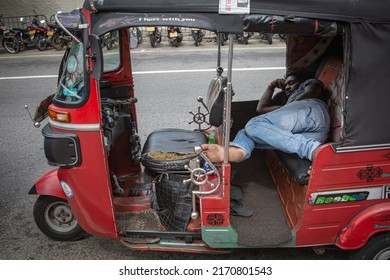motorbike: (8, 14, 41, 50), (29, 18, 59, 51), (164, 26, 184, 49), (188, 26, 206, 47), (146, 26, 162, 48)
threewheel: (28, 1, 390, 260)
